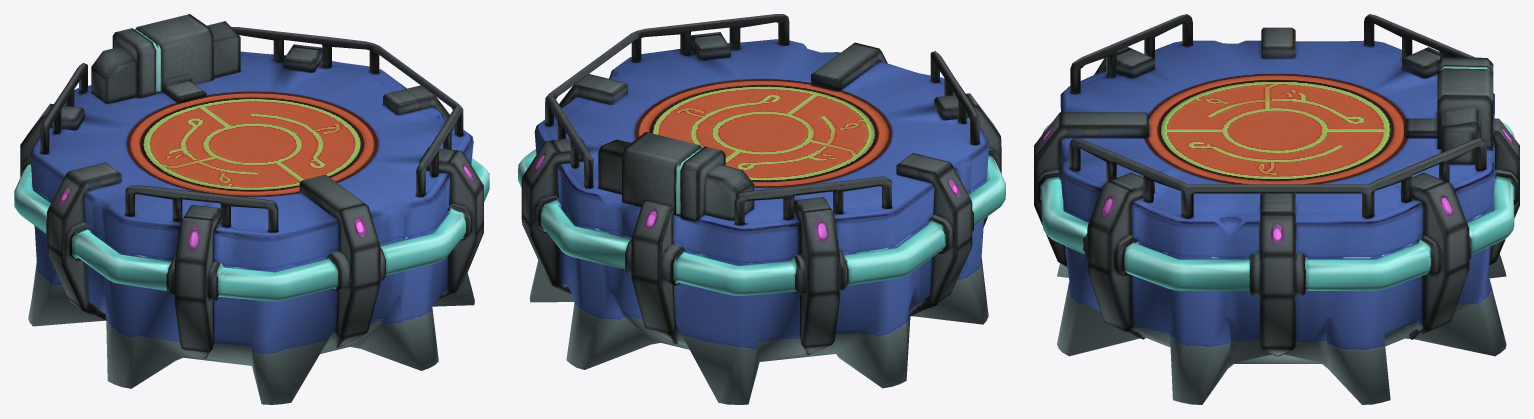
File: tripo_convert_a3c039d2-83f0-441c-a722-098cbe09a69e.fbx
The picture shows the model from 3 angles, left to right: view 1: azimuth 30°, elevation 25°; view 2: azimuth 150°, elevation 25°; view 3: azimuth 270°, elevation 25°; orthographic projection. The views are drawn at different scales.
Visible parts, largest first — view 1: tripo_node_a3c039d2; view 2: tripo_node_a3c039d2; view 3: tripo_node_a3c039d2.
Boxes of the visible parts, x1,y1,x2,y2 form: tripo_node_a3c039d2: (14, 14, 489, 404); tripo_node_a3c039d2: (518, 14, 1005, 404); tripo_node_a3c039d2: (1034, 14, 1519, 404).
Bounding box in the file's own units: 0.998 × 0.5723 × 0.998.
